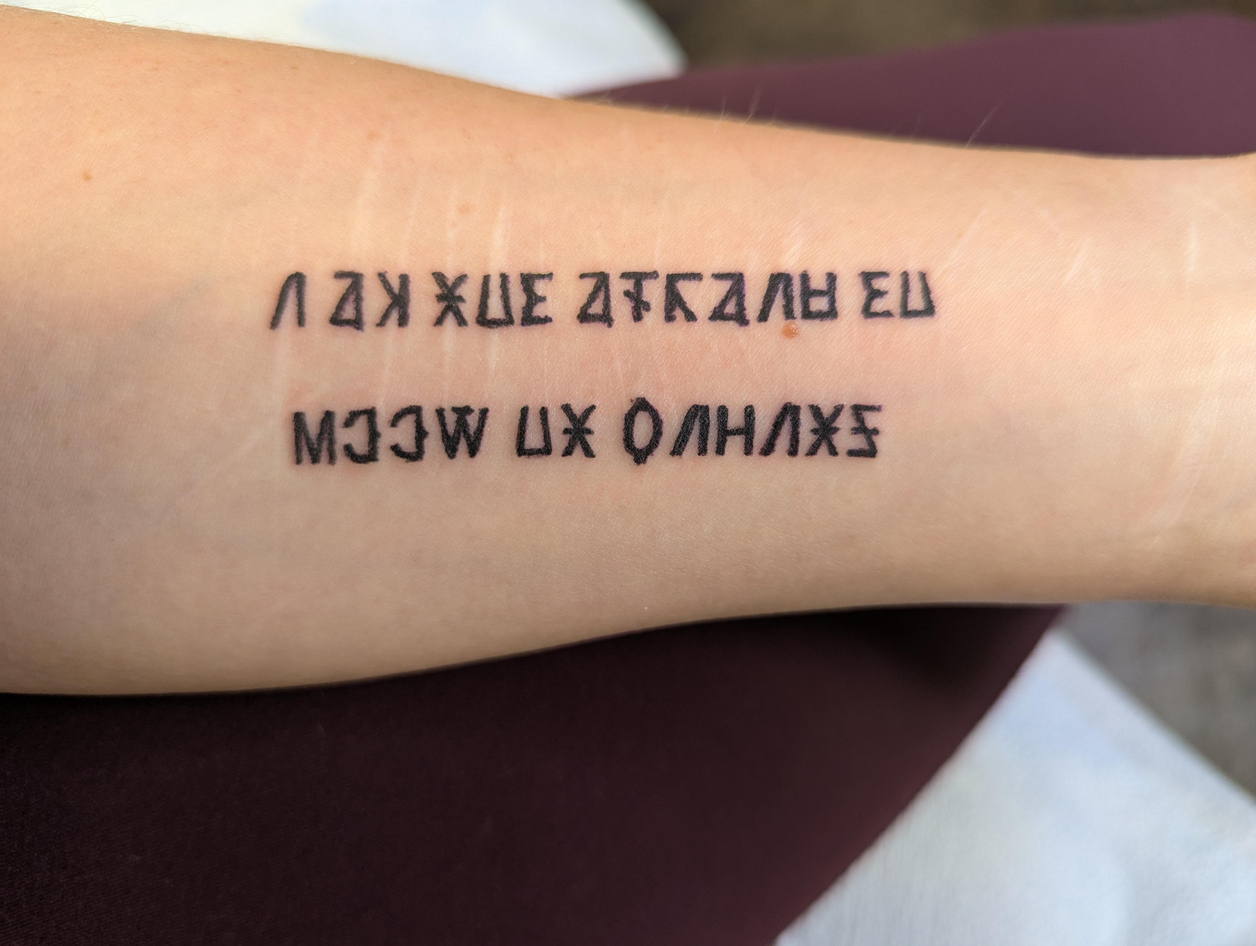A: (82, 68, 95, 85), (179, 69, 192, 85), (145, 68, 158, 84)
D: (203, 68, 214, 83)
E: (97, 102, 110, 118), (87, 103, 99, 119)
F: (156, 68, 169, 84)
G: (216, 102, 227, 117)
I: (67, 68, 80, 85), (170, 102, 182, 118), (193, 102, 205, 118), (192, 69, 203, 83)
K: (73, 103, 87, 121)
L: (157, 101, 170, 119)
M: (94, 68, 107, 85)
N: (141, 102, 153, 118), (109, 68, 121, 84), (205, 102, 215, 117)
O: (129, 103, 142, 119), (120, 68, 133, 84), (229, 68, 239, 82)
P: (111, 101, 126, 118)
R: (168, 68, 181, 84)
T: (131, 68, 143, 84), (217, 67, 228, 82)
V: (182, 102, 193, 118)
